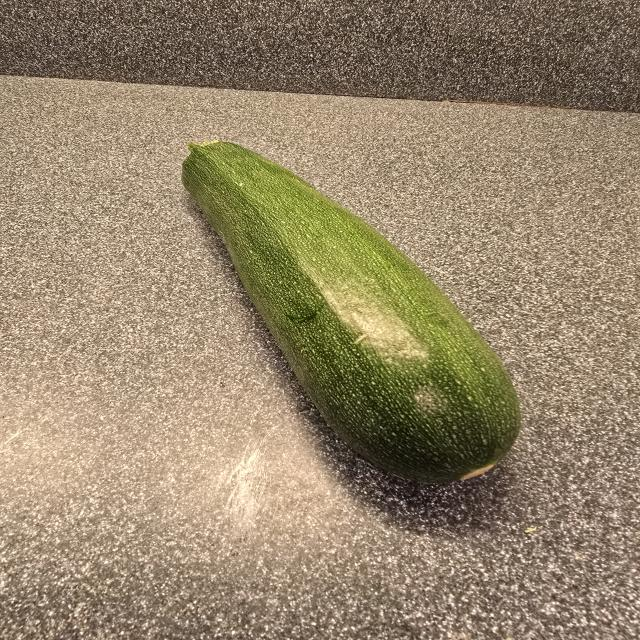Courgette: (176, 134, 531, 494)
